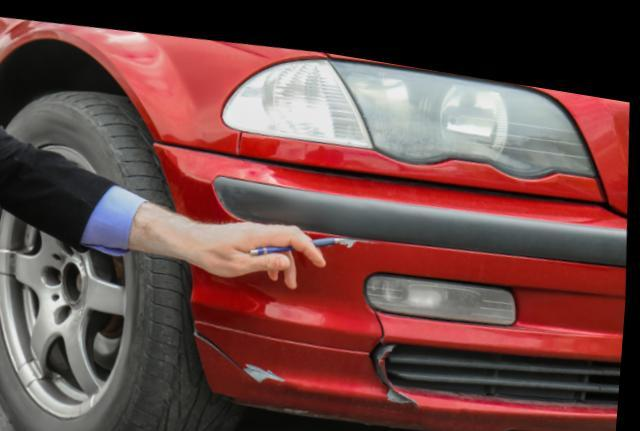crack: (371, 297, 423, 391), (198, 316, 261, 371)
